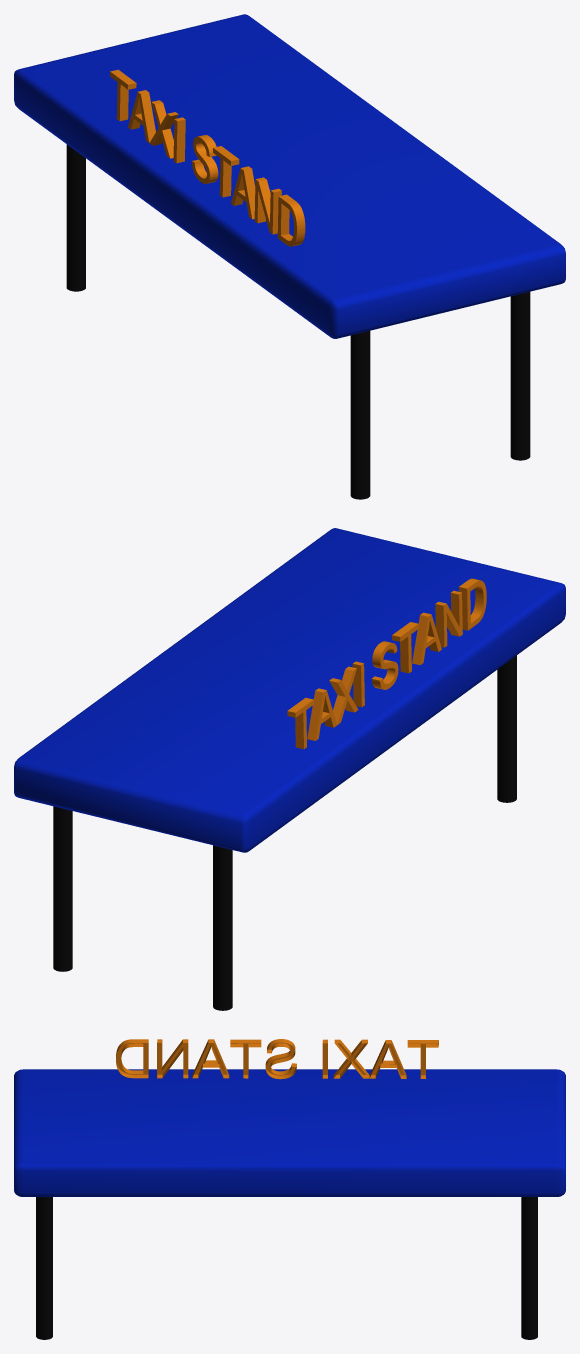
File: taxi stand.fbx
3 views of the same model, one above another, from view 1: azimuth 30°, elevation 25°; view 2: azimuth 150°, elevation 25°; view 3: azimuth 270°, elevation 25° (orthographic). The views are drawn at different scales.
Visible parts, largest first — view 1: ChamferBox001, Text001, Cylinder004, Cylinder002, Cylinder003; view 2: ChamferBox001, Text001, Cylinder005, Cylinder003, Cylinder002; view 3: ChamferBox001, Text001, Cylinder004, Cylinder005.
Boxes of the visible parts, x1,y1,x2,y2 form: ChamferBox001: [14, 14, 565, 338]; Text001: [110, 69, 305, 246]; Cylinder004: [510, 292, 530, 460]; Cylinder002: [350, 331, 370, 499]; Cylinder003: [66, 144, 85, 291]; ChamferBox001: [14, 528, 565, 852]; Text001: [287, 578, 486, 749]; Cylinder005: [53, 806, 72, 971]; Cylinder003: [213, 845, 232, 1010]; Cylinder002: [497, 655, 516, 802]; ChamferBox001: [14, 1069, 565, 1196]; Text001: [116, 1039, 438, 1079]; Cylinder004: [36, 1197, 52, 1339]; Cylinder005: [521, 1197, 537, 1339].
Size of the model in its own units: 414 by 438 by 985.
